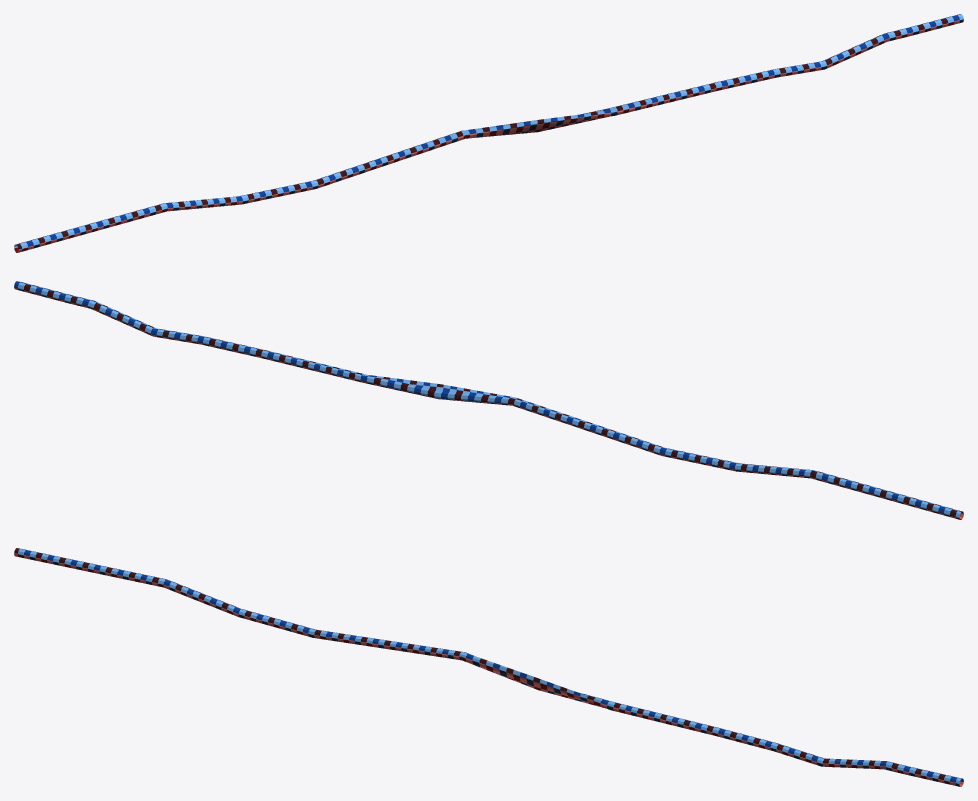
File: Wire_med_01.fbx
3 views of the same model, one above another, from view 1: azimuth 30°, elevation 25°; view 2: azimuth 150°, elevation 25°; view 3: azimuth 330°, elevation 25° (orthographic).
Visible parts, largest first — view 1: wire_medium_01; view 2: wire_medium_01; view 3: wire_medium_01.
Boxes of the visible parts, <box> form: wire_medium_01: <box>14,14,963,252</box>; wire_medium_01: <box>14,281,963,519</box>; wire_medium_01: <box>14,548,963,786</box>.
Bounding box in the file's own units: 500 × 13.6 × 4.19.
Materials: 1 (1 with a texture image).
